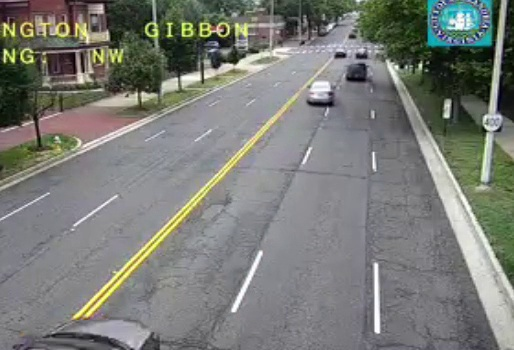car: (307, 81, 335, 104), (345, 63, 367, 83)
